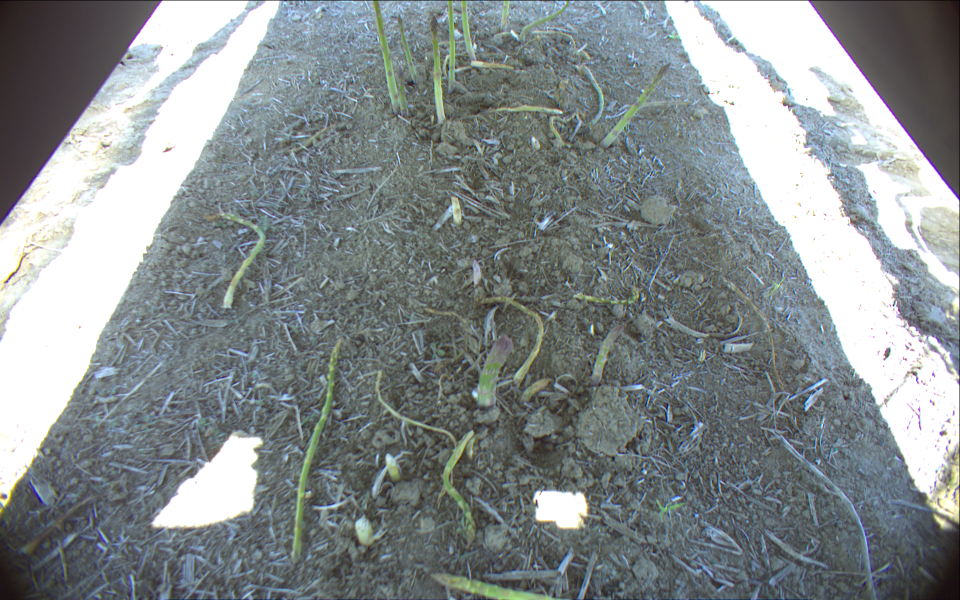aspa: (596, 61, 672, 150), (373, 1, 404, 109), (475, 331, 515, 414), (586, 321, 627, 387), (427, 12, 450, 127), (517, 1, 570, 45), (396, 15, 422, 85), (459, 1, 480, 67), (443, 1, 458, 93), (394, 63, 410, 113), (498, 1, 512, 38)
